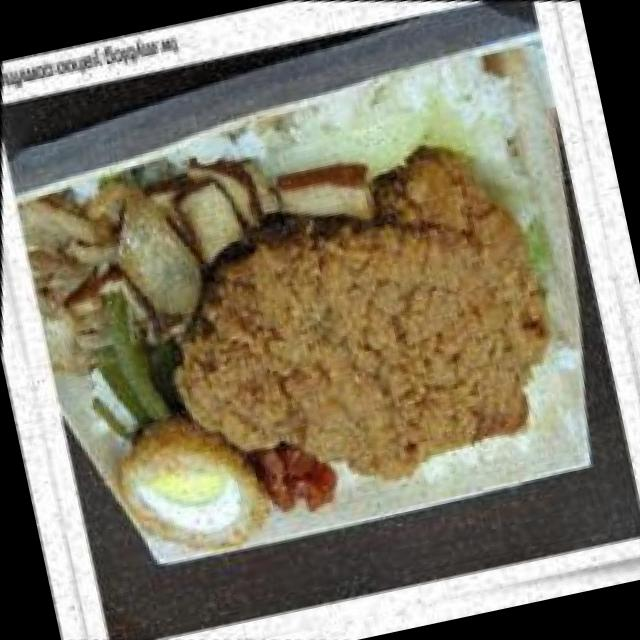fried_chicken: (91, 70, 640, 597)
